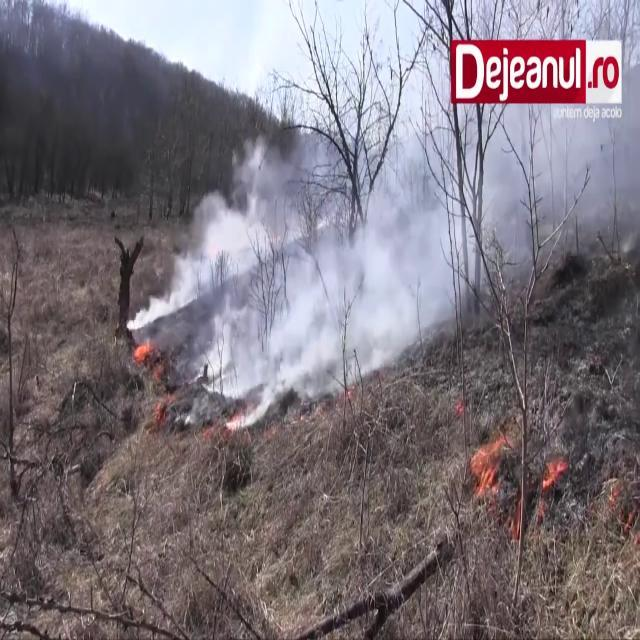Smoke: (152, 16, 640, 412)
